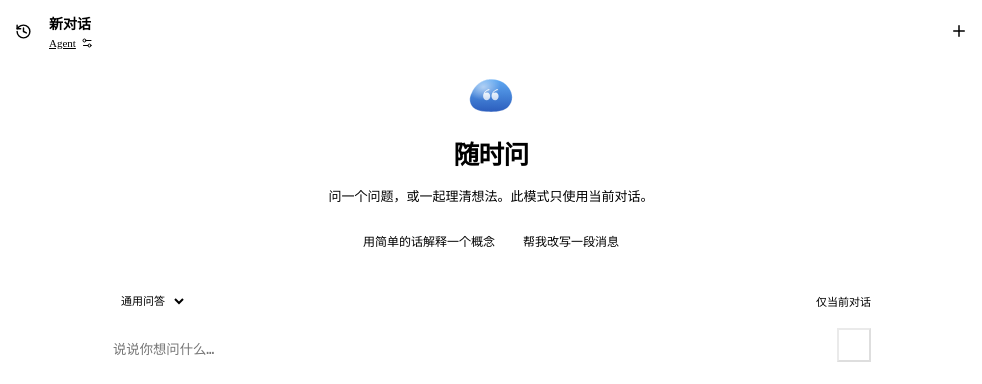
it: AgentConsole › lets a new conversation explicitly choose meeting questions
Select "会议问答" in the dropdown named "问答范围" at (149, 301), box [111,290,187,312]
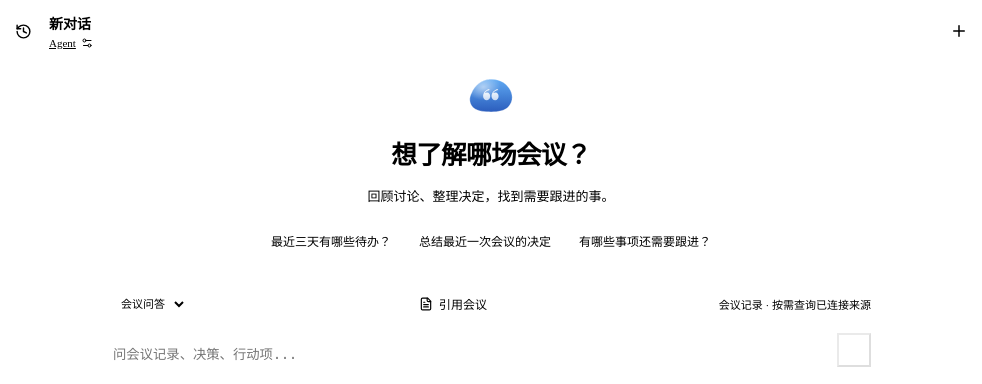
Check: the button "引用会议" is shown, box [419,290,487,317]
